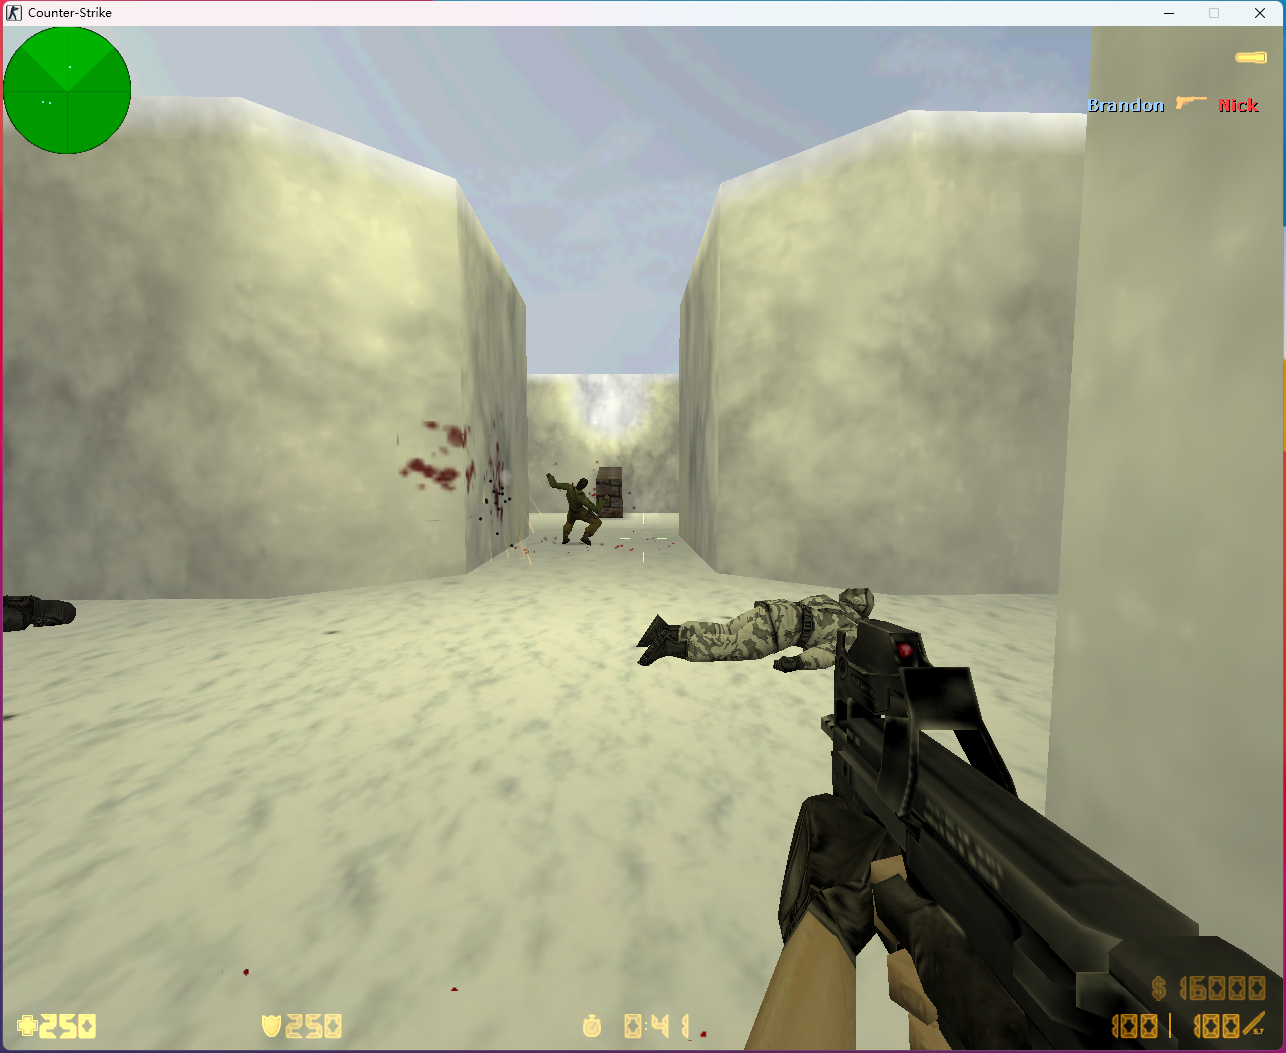T: (546, 472, 602, 545)
dead: (634, 591, 895, 671)
